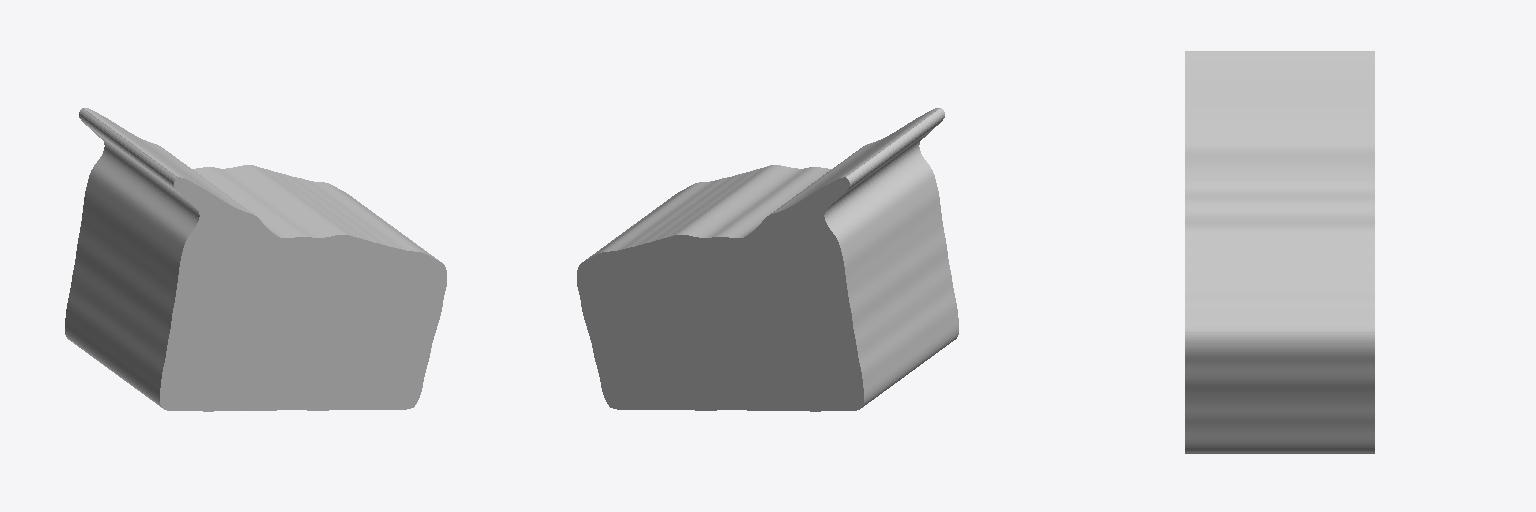
3 renders of one model, left to right at view 1: azimuth 30°, elevation 25°; view 2: azimuth 150°, elevation 25°; view 3: azimuth 270°, elevation 25°, orthographic.
Parts seen in each view (by area): view 1: 平面; view 2: 平面; view 3: 平面.
Part boxes in pixels (x1,y1,x2,y2): 平面: (65,108,446,411); 平面: (577,108,958,411); 平面: (1185,51,1374,453).
Size of the model in its own units: 0.3498 by 0.3348 by 0.2.